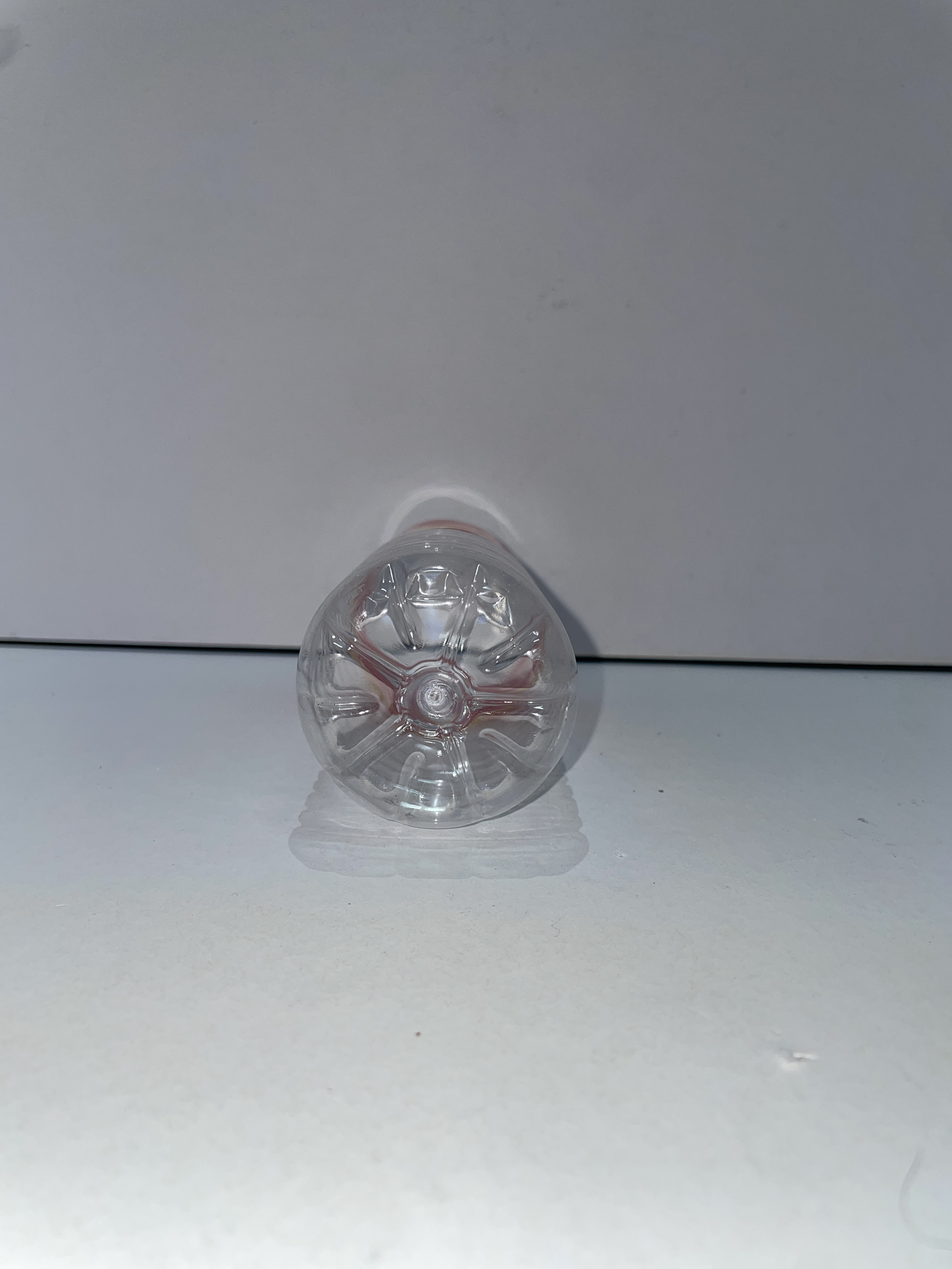Nature spring victory liner 330ml: (298, 521, 576, 829)
